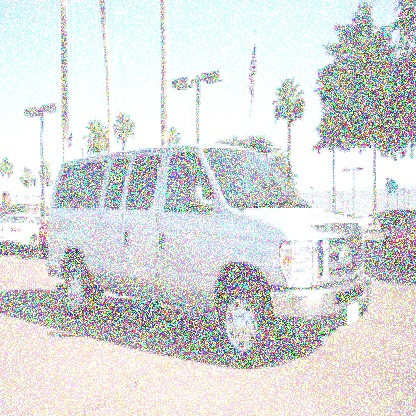Vehicle: (51, 146, 372, 371)
